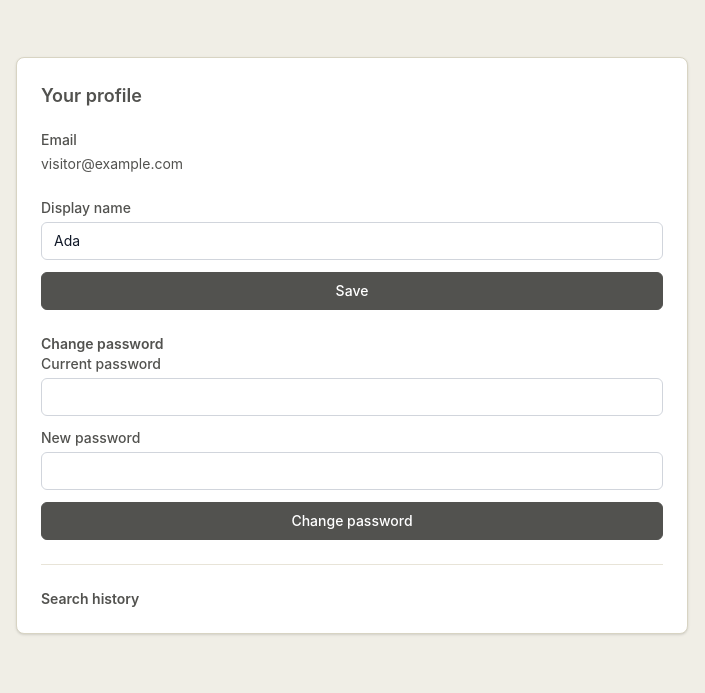
Test: ProfilePage › shows the server's message when saving the display name fails
Click the button "Save". click: [352, 290]
box: [41,272,663,310]
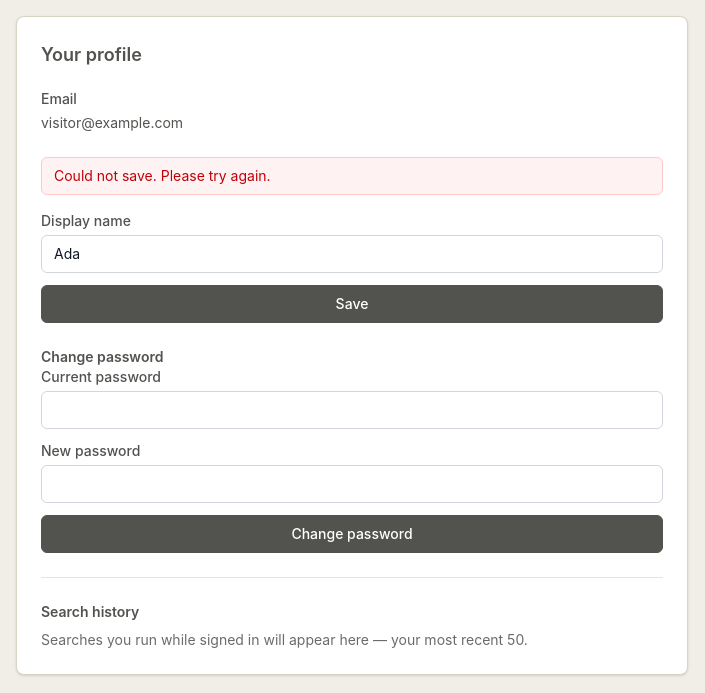
Expected: the message shows "Could not save.", [54,166,271,184]
